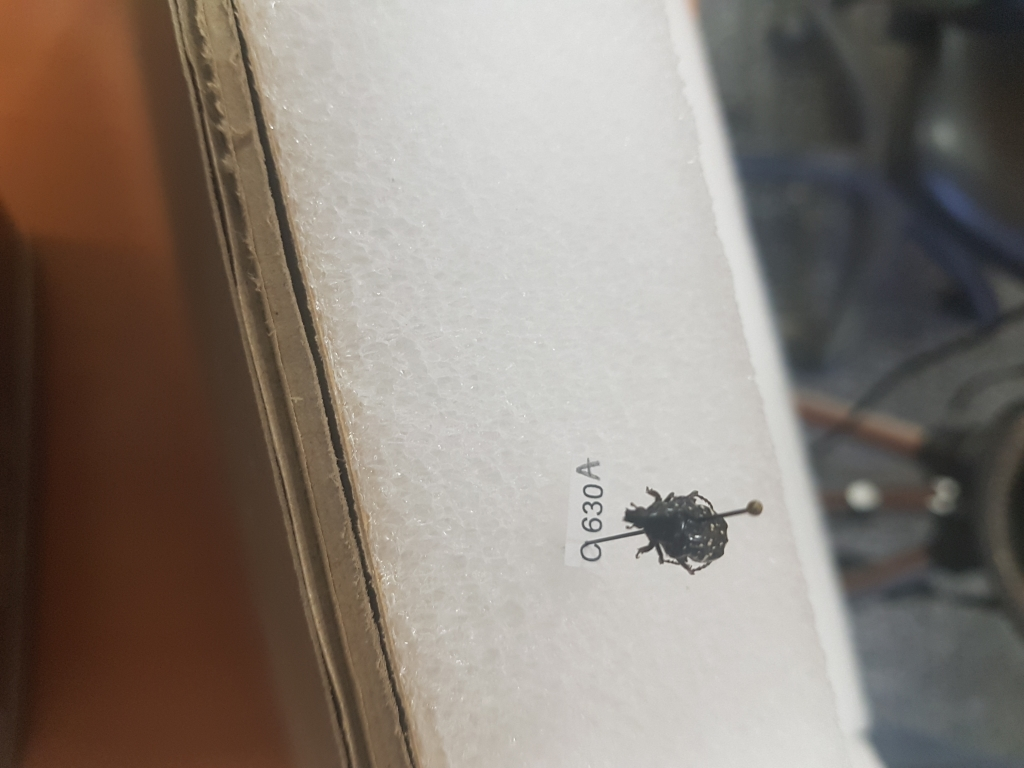Oxythyrea_albopicta: (625, 479, 731, 577)
